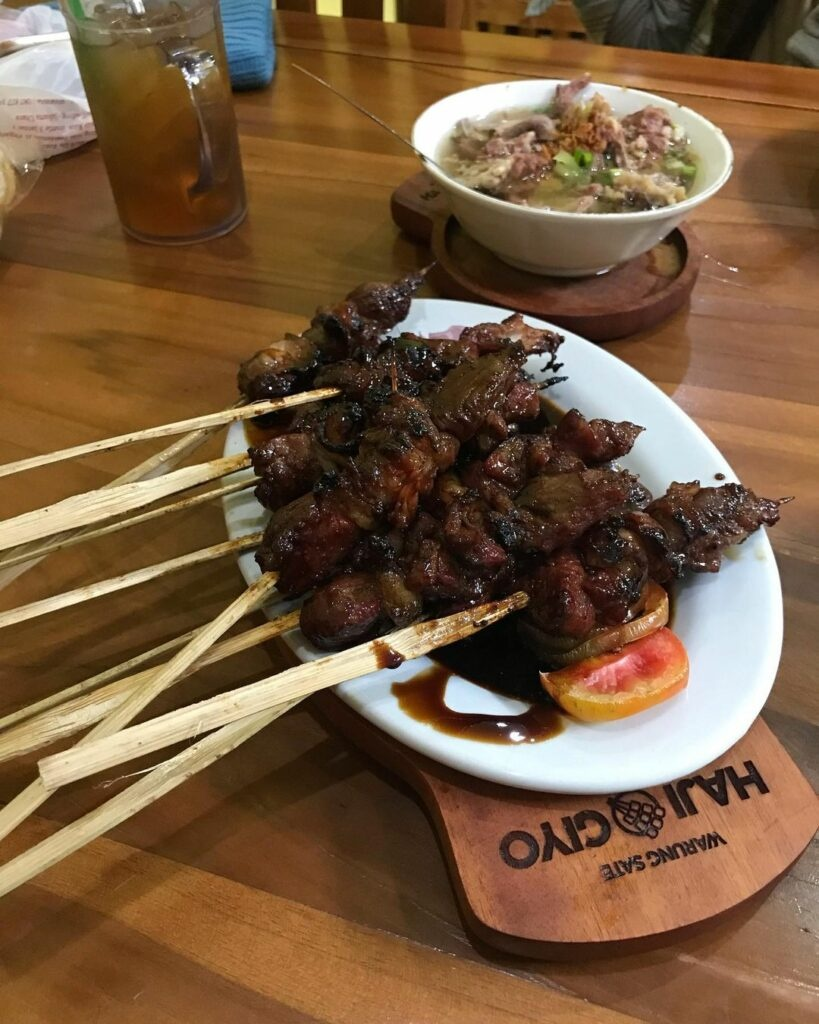sate: (0, 270, 789, 900)
